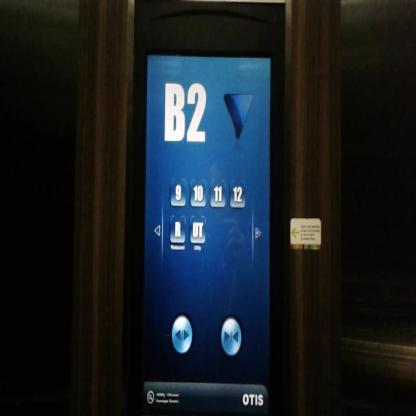10: (188, 176, 206, 209)
11: (208, 176, 226, 209)
12: (228, 176, 246, 208)
9: (168, 175, 186, 207)
R: (168, 212, 186, 244)
UT: (188, 212, 206, 244)
close: (218, 315, 242, 358)
open: (169, 313, 193, 355)
